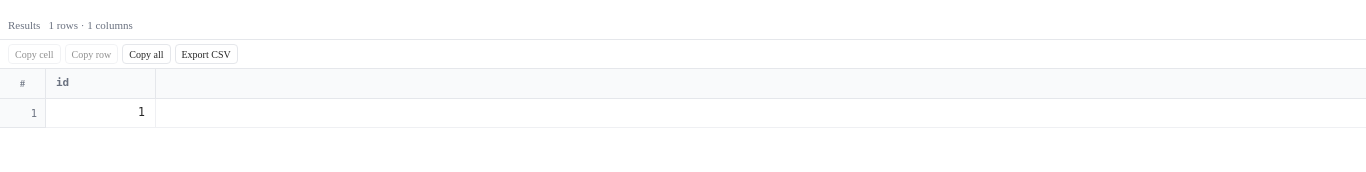
it: ResultsPanel › shows a notice when the clipboard write fails
The image size is (1366, 172).
Click the 2nd cell "1".
click(101, 114)  # box x1=46 y1=99 x2=156 y2=128
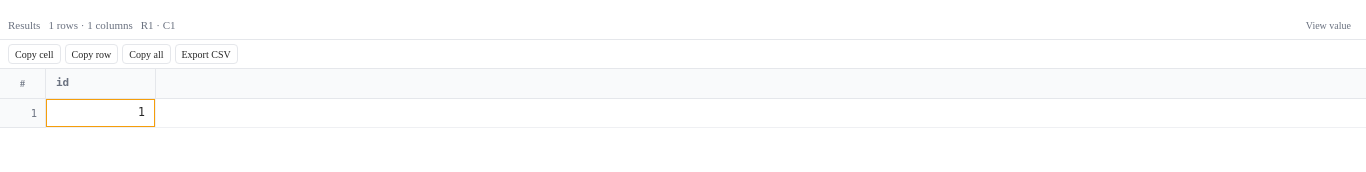
Click the button "Copy cell".
click(34, 54)  # box x1=8 y1=44 x2=61 y2=64
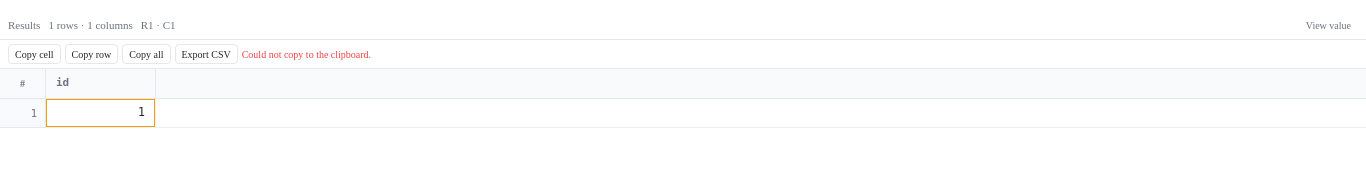
Expected: the text "Could not copy to the clipboard." is shown, x1=242 y1=46 x2=371 y2=62
